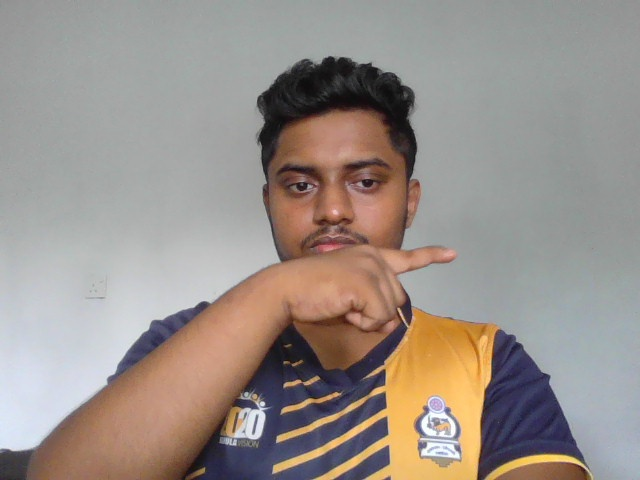Going To: (274, 242, 455, 335)
